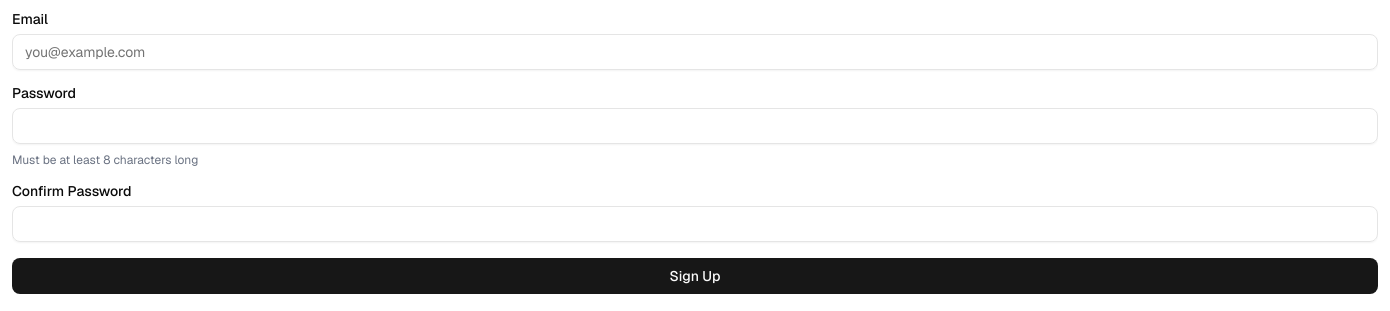
Test: shows verification message when sign up succeeds
Step 1. Type "user@example.com" into the field labelled "Email" → {"x": 695, "y": 52}, box [12,34,1378,70]
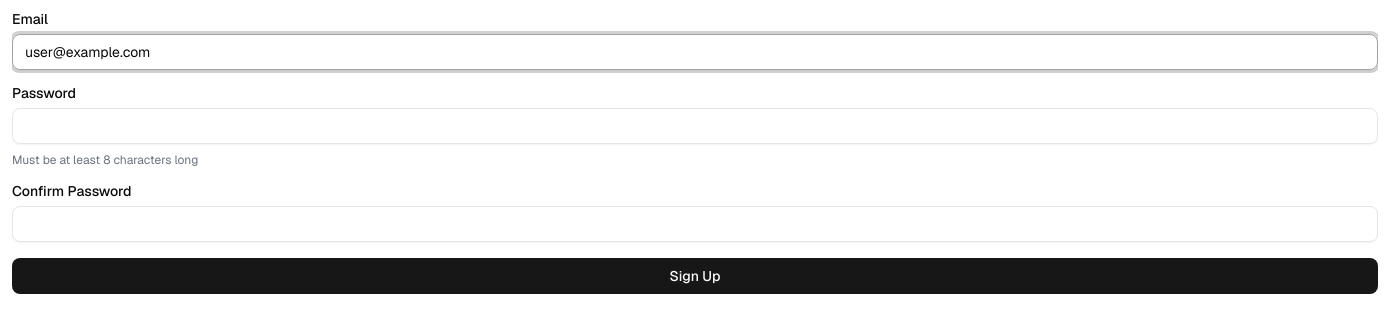
Step 2. Type "password123" into the password field labelled "Password" → {"x": 695, "y": 126}, box [12,108,1378,144]
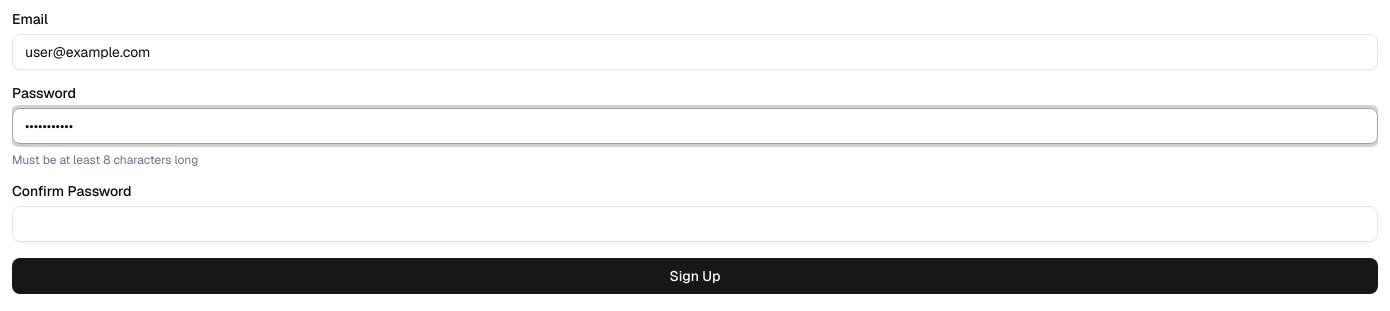
Step 3. Type "password123" into the password field labelled "Confirm Password" → {"x": 695, "y": 224}, box [12,206,1378,242]
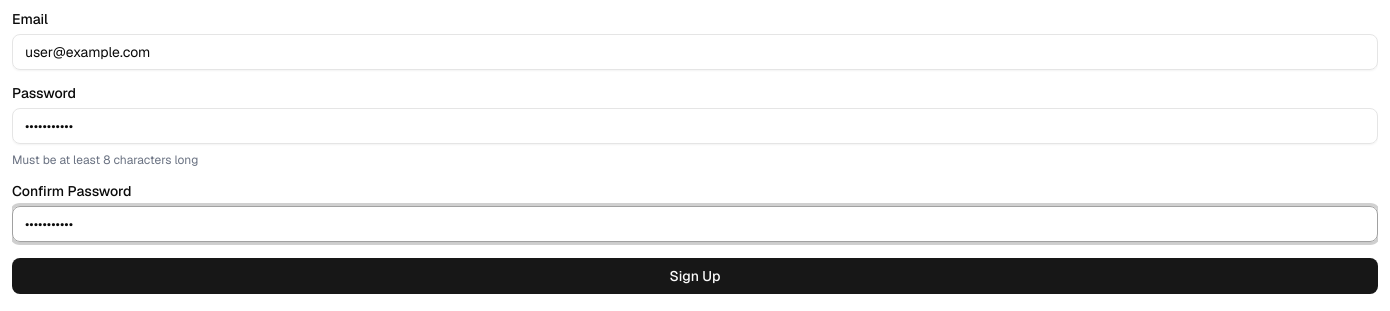
Step 4. Click the button "Sign Up" → {"x": 695, "y": 276}, box [12,258,1378,294]
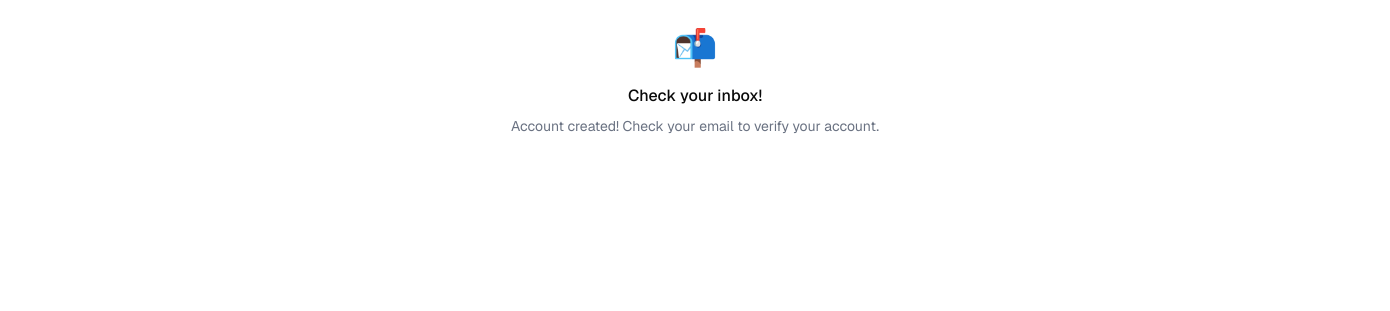
Check: the text "Check your inbox!" is shown, box [628,85,762,106]
